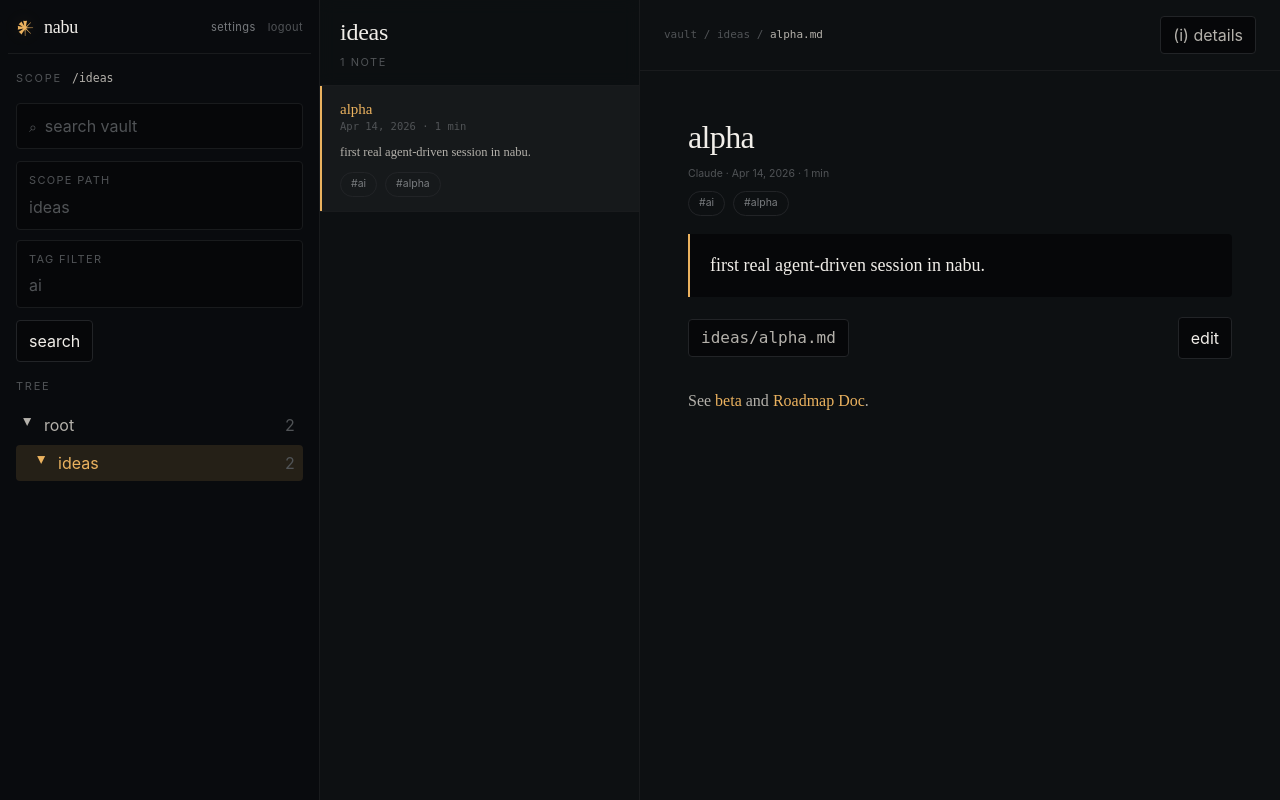
Test: HomePage › enters explicit-save Markdown editing mode with the exact source
Click the button with aria-label "edit note": click(1205, 338) [1178, 317, 1232, 359]
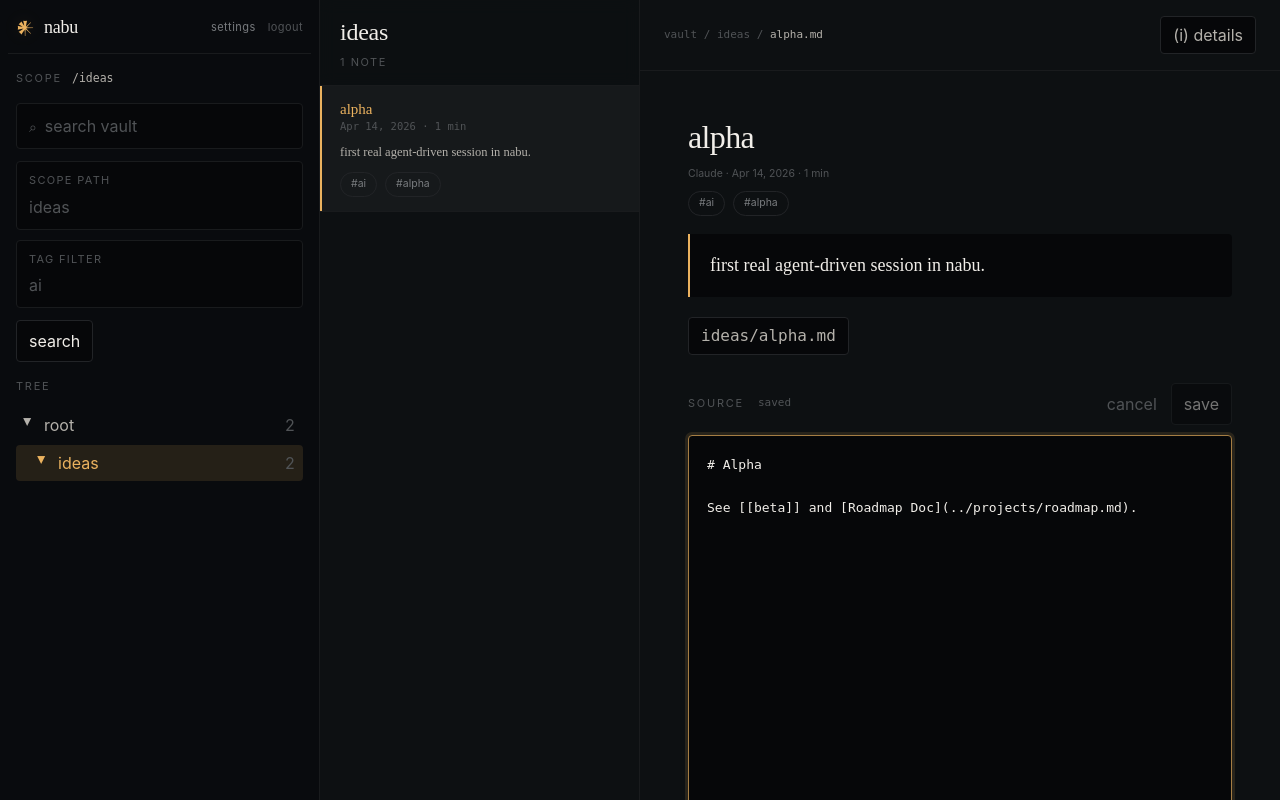
Expected: the button "save" is shown, [1171, 383, 1232, 425]
Expected: the button "cancel" is shown, [1107, 392, 1157, 416]
